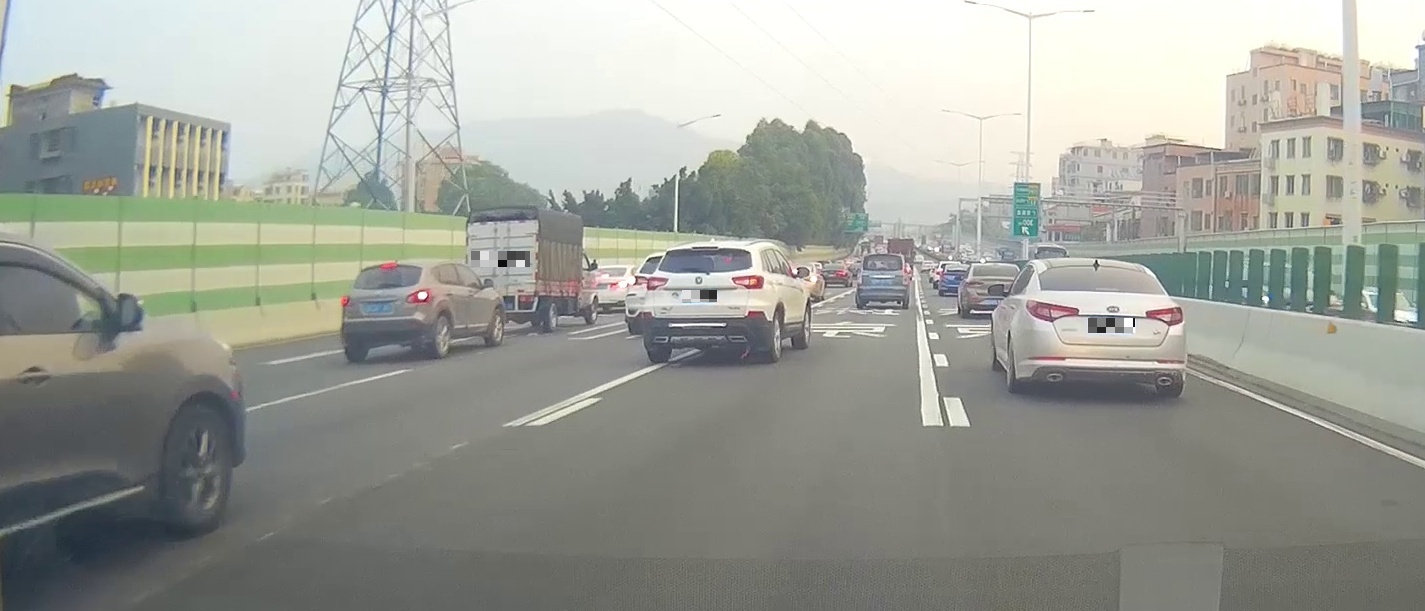L_light: (1025, 300, 1079, 323), (646, 277, 669, 291), (341, 296, 350, 306), (857, 270, 863, 285)
R_light: (1145, 306, 1183, 326), (732, 274, 765, 289), (405, 288, 433, 304), (903, 269, 909, 286)
T_light: (379, 262, 397, 269), (1095, 287, 1119, 292), (691, 246, 718, 250), (877, 254, 888, 256)
day-no: (1022, 258, 1186, 396), (855, 253, 909, 309)
day-right: (641, 243, 775, 364), (339, 260, 438, 363)
plate_1: (471, 251, 530, 267)
plate_2: (682, 290, 717, 302)
plate_3: (1088, 318, 1135, 333)
